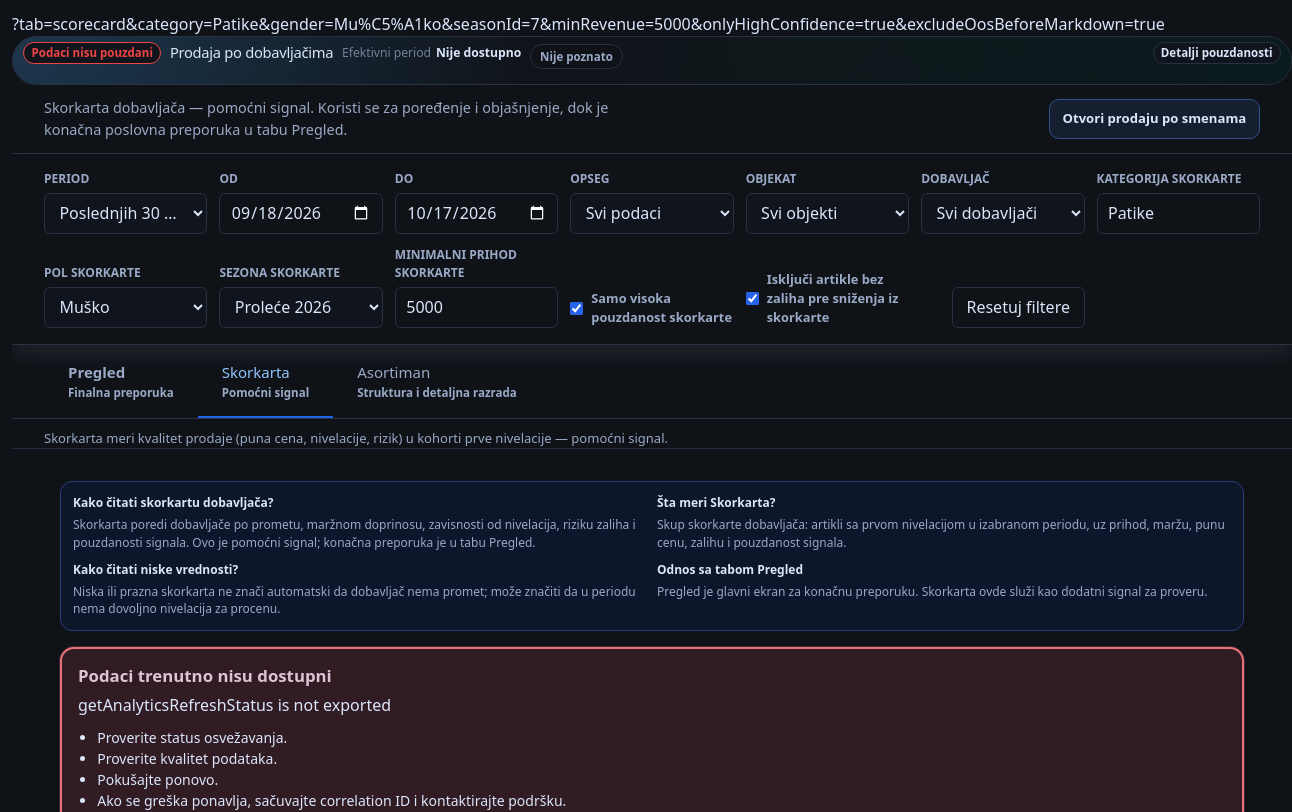
Scenario: SupplierConsolidatedPage › round-trips scorecard-only filters through the canonical URL owner
Expected: the dropdown showing "Muško" is shown, [44,287,207,328]
Expected: the dropdown showing "Proleće 2026" is shown, [219,287,383,328]
Replace the text in the field showing "Patike" with "Čizme": (1178, 213) [1097,193,1260,234]
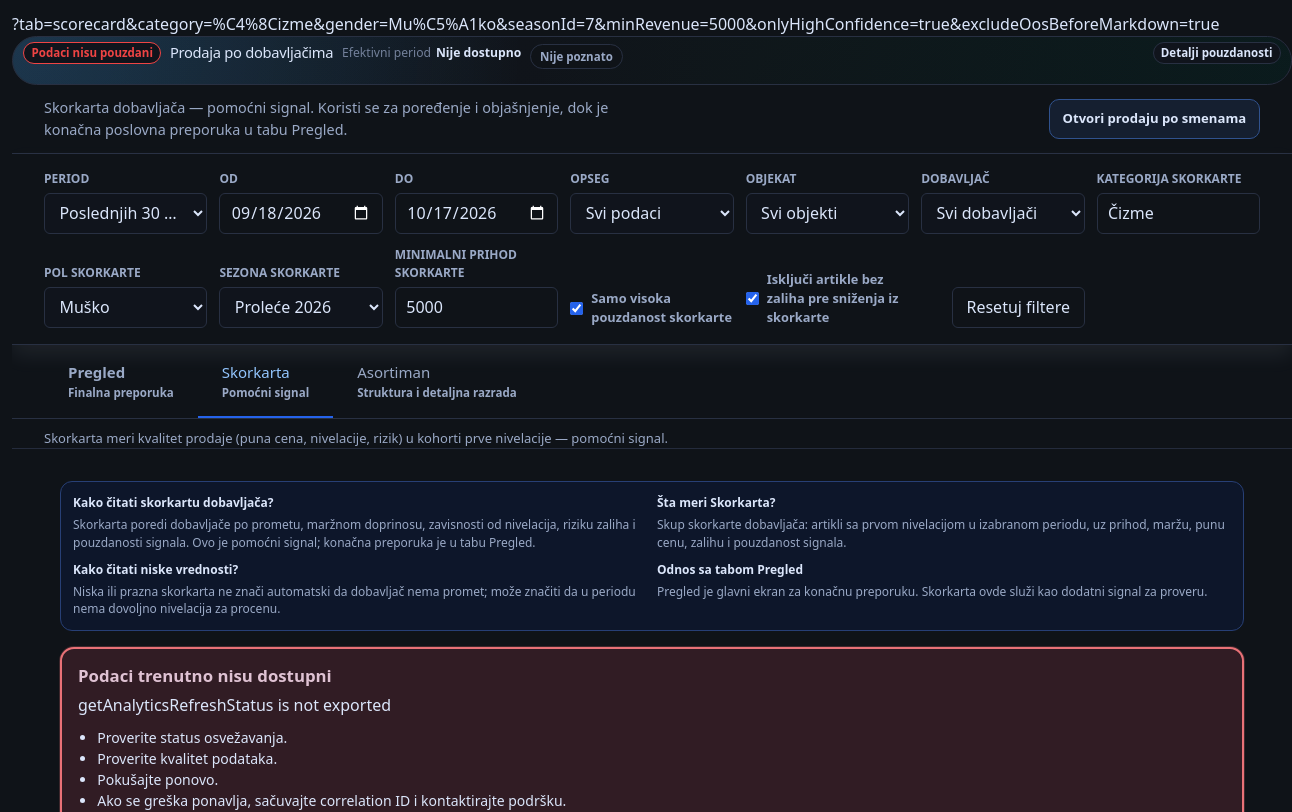
Expected: the text with test id "location-search" shows "gender=Mu%C5%A1ko", [12,13,1220,35]
Expected: the text with test id "location-search" shows "category=%C4%8Cizme", [12,13,1220,35]
